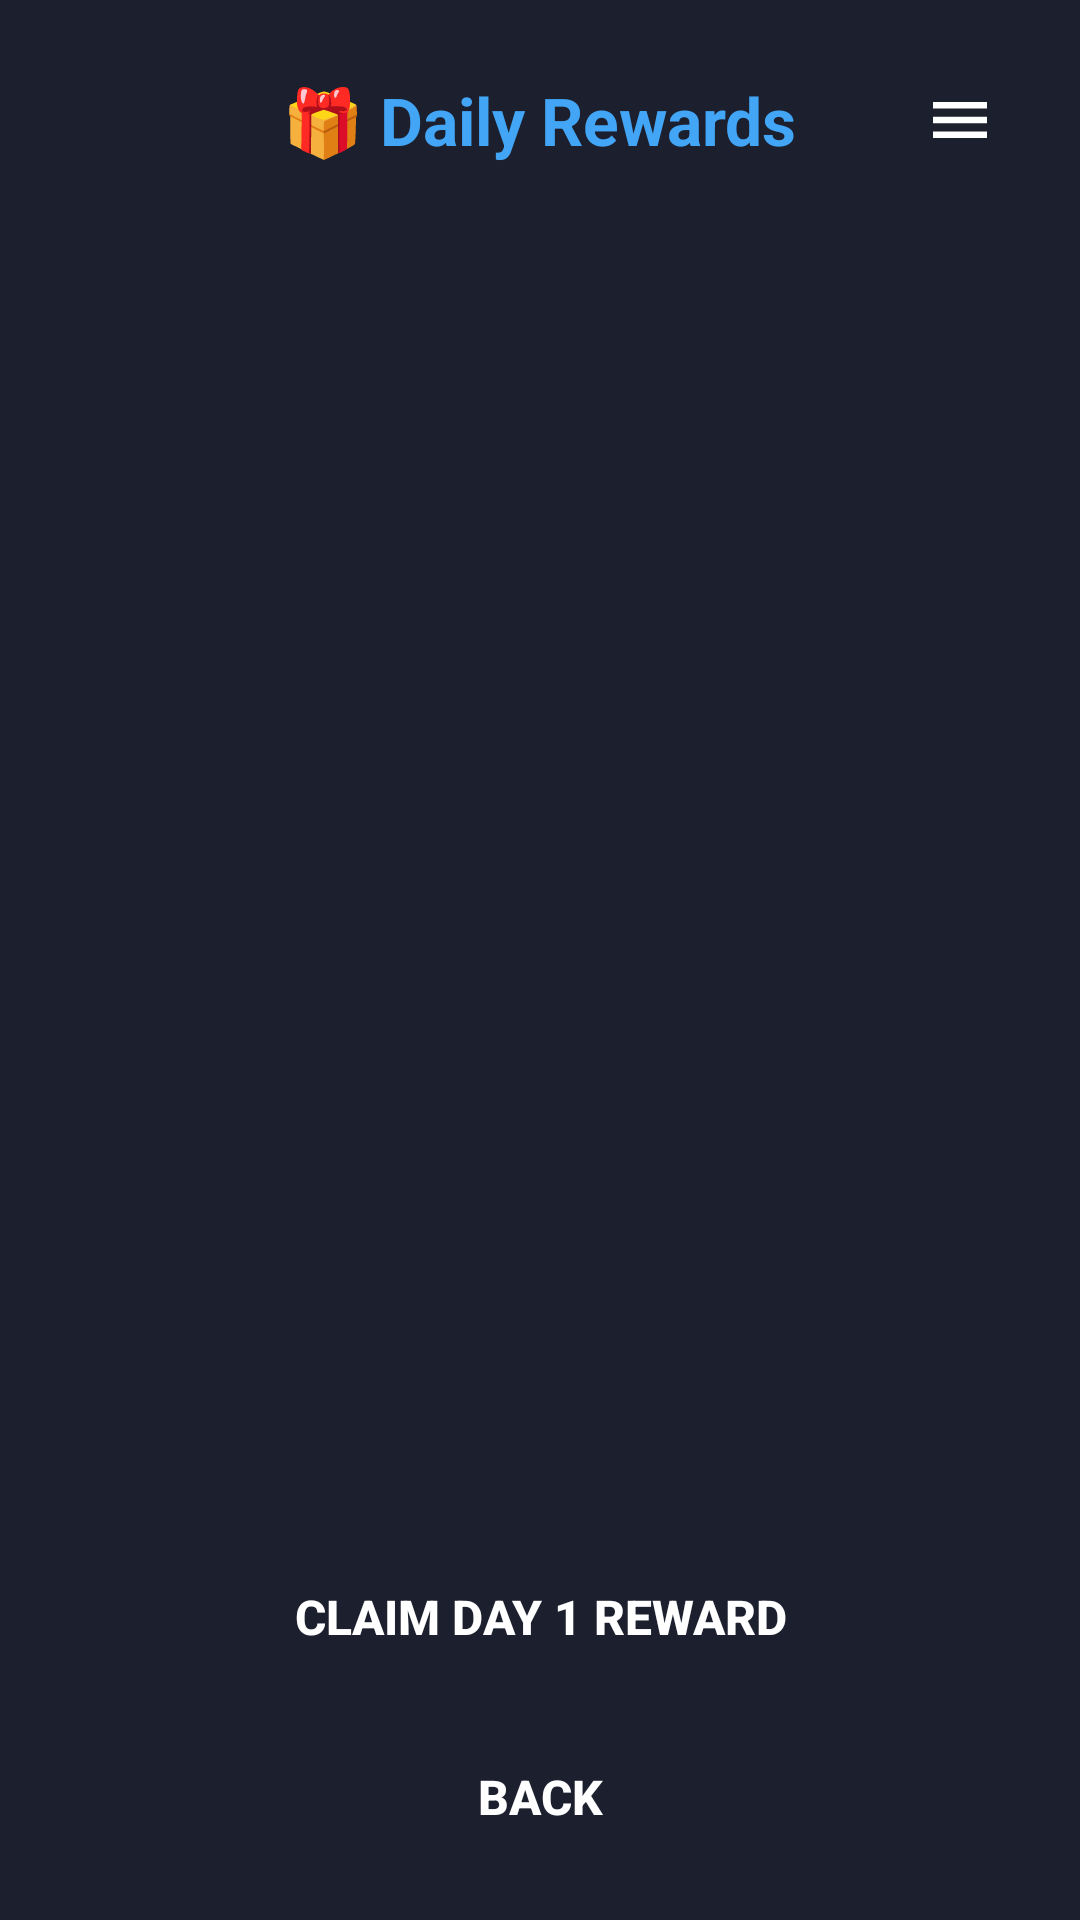

Icons on this 1080px x 1920px Android screen, each with the point to tap as point (x, y):
Open menu: point (960, 120)
